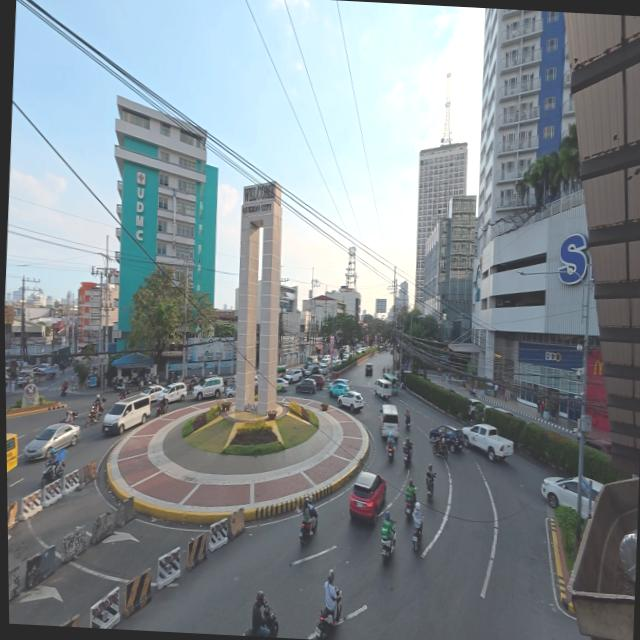bus: (6, 419, 21, 489)
car: (22, 421, 83, 466), (542, 477, 605, 518), (345, 471, 388, 527), (195, 375, 230, 400), (337, 390, 365, 412), (330, 378, 353, 398)
vans: (102, 399, 150, 438)
